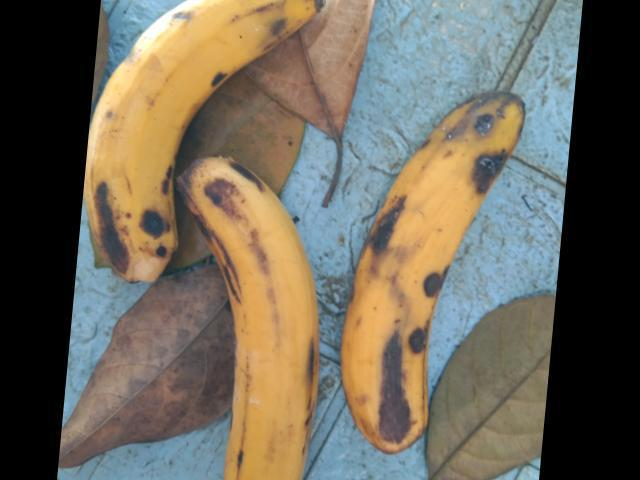overripe: (330, 66, 536, 479)
ripe: (84, 0, 311, 300), (191, 154, 344, 479)
